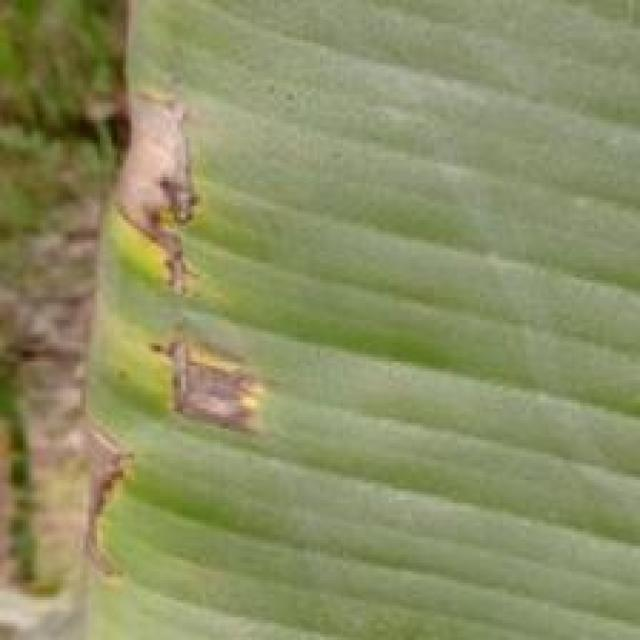Bacterial_spot: (84, 70, 234, 308), (150, 304, 282, 451), (52, 411, 150, 599)
